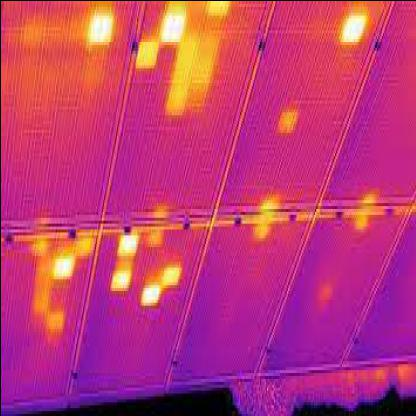Defects: (90, 12, 112, 50), (276, 106, 298, 138), (340, 12, 362, 44), (166, 82, 186, 112), (172, 41, 190, 73), (137, 38, 155, 67), (197, 41, 210, 76), (166, 15, 180, 41), (205, 3, 223, 23), (121, 232, 134, 258), (112, 272, 128, 292), (56, 258, 73, 276), (143, 284, 158, 302), (166, 260, 176, 284)
